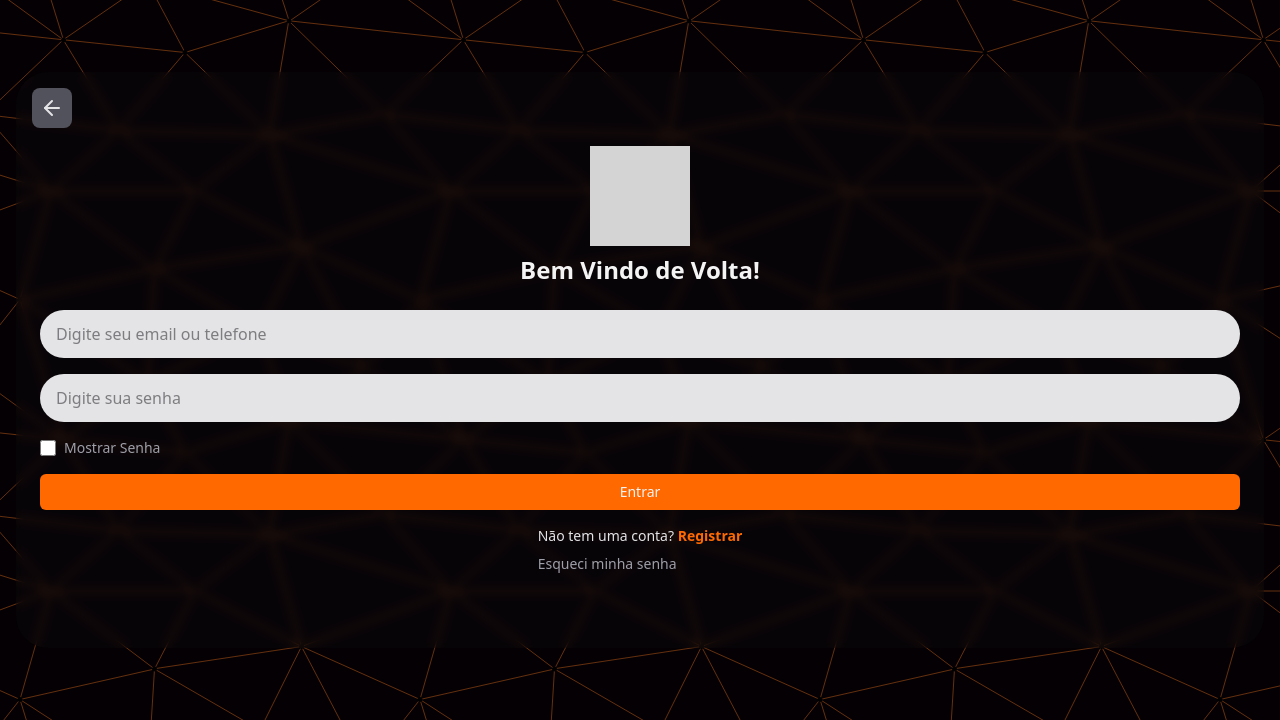
Scenario: LoginPage › deve validar campos obrigatórios
The image size is (1280, 720).
Expected: the heading "Bem Vindo de Volta!" is shown, [520,254,760,286]
Click the button "Entrar".
click(640, 492)  # box [40,474,1240,510]
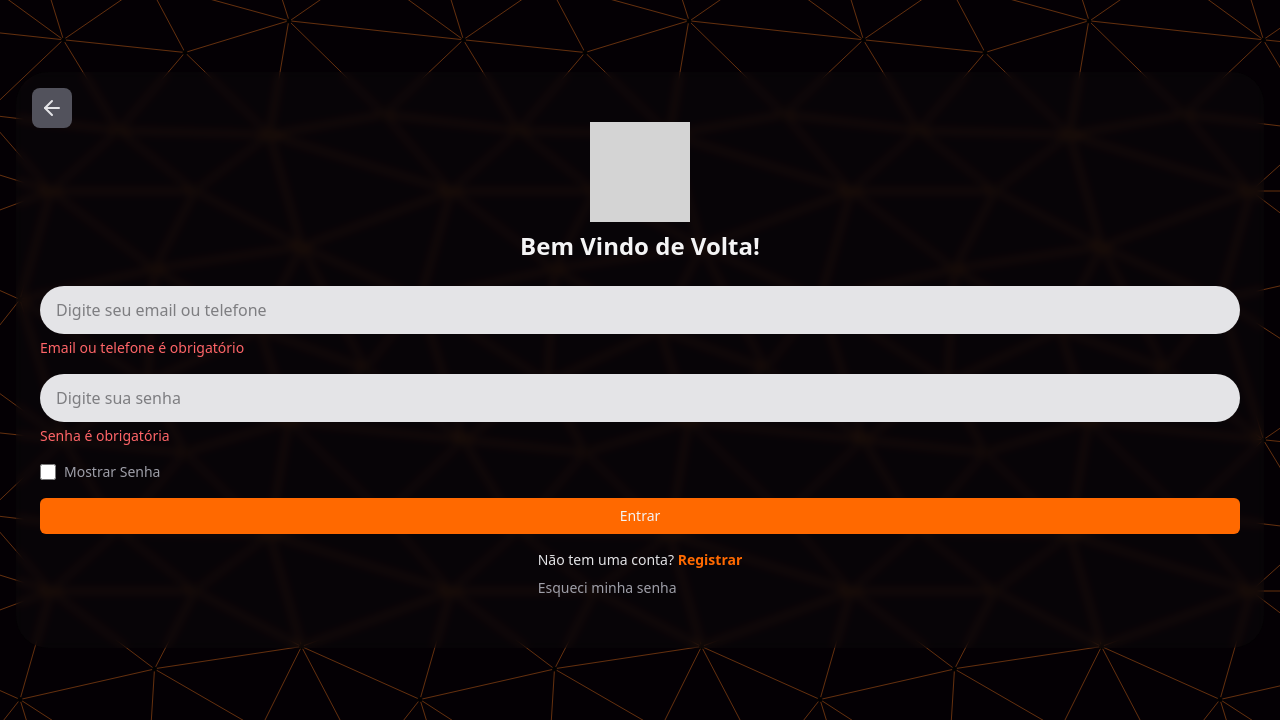
Expected: the text "Email ou telefone é obrigatório" is shown, [40,338,244,357]
Expected: the text "Senha é obrigatória" is shown, [40,426,170,445]
